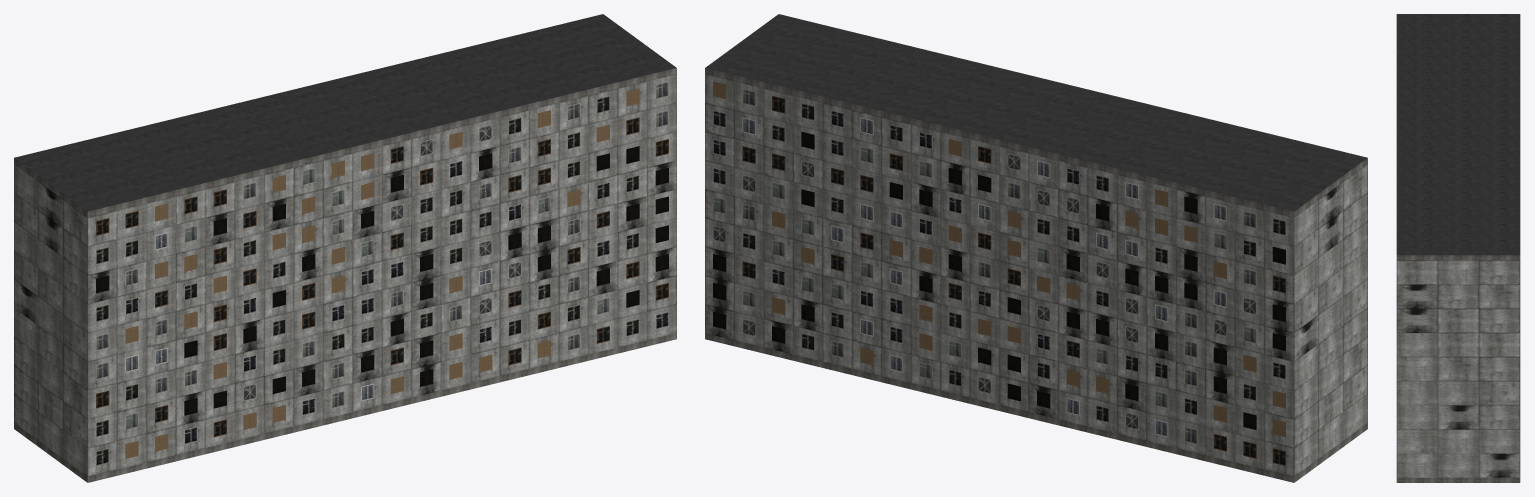
Rendered from S1U_Skyline_P9Long.fbx.
3 views of the same model, side by side, from view 1: azimuth 30°, elevation 25°; view 2: azimuth 150°, elevation 25°; view 3: azimuth 270°, elevation 25° (orthographic). The views are drawn at different scales.
Parts seen in each view (by area): view 1: S1U_Skyline_P9Long; view 2: S1U_Skyline_P9Long; view 3: S1U_Skyline_P9Long.
Part boxes in pixels (left/top/right/bottom): S1U_Skyline_P9Long: left=14, top=14, right=676, bottom=482; S1U_Skyline_P9Long: left=705, top=14, right=1367, bottom=482; S1U_Skyline_P9Long: left=1396, top=14, right=1520, bottom=482.
Bounding box in the file's own units: 60 × 26.4 × 13.04.
